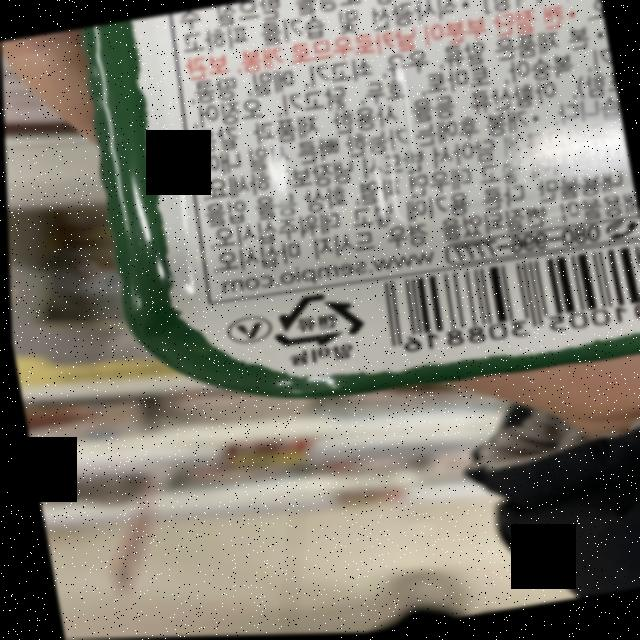Can: (264, 288, 367, 356)
